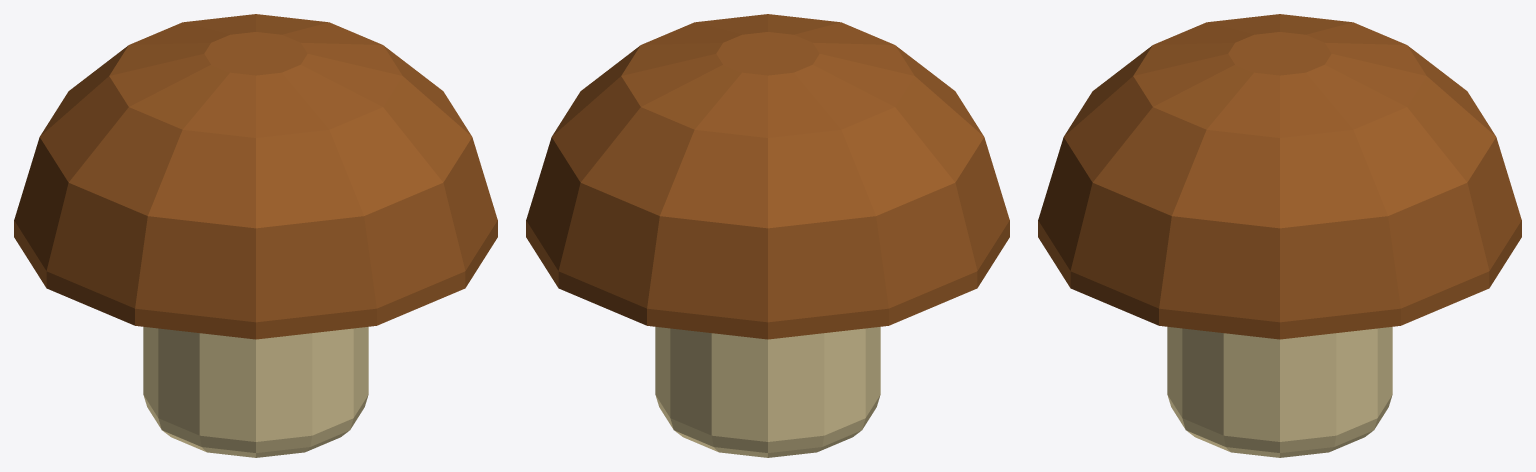
File: mashroom.fbx
3 renders of one model, left to right at view 1: azimuth 30°, elevation 25°; view 2: azimuth 150°, elevation 25°; view 3: azimuth 270°, elevation 25°, orthographic.
Parts seen in each view (by area): view 1: Cylinder; view 2: Cylinder; view 3: Cylinder.
Part boxes in pixels (bbox=[...]): Cylinder: bbox=[14, 14, 497, 457]; Cylinder: bbox=[526, 14, 1009, 457]; Cylinder: bbox=[1038, 14, 1521, 457].
Size of the model in its own units: 340 by 284 by 340.
